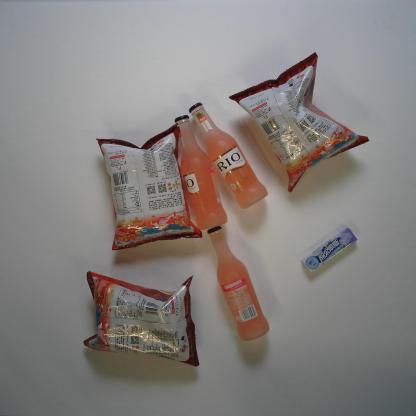Alcohol: (188, 102, 268, 210), (204, 224, 270, 342), (174, 114, 228, 231)
Candy: (300, 226, 357, 274)
Puffed Food: (228, 52, 371, 193), (95, 122, 203, 252), (82, 271, 200, 368)
